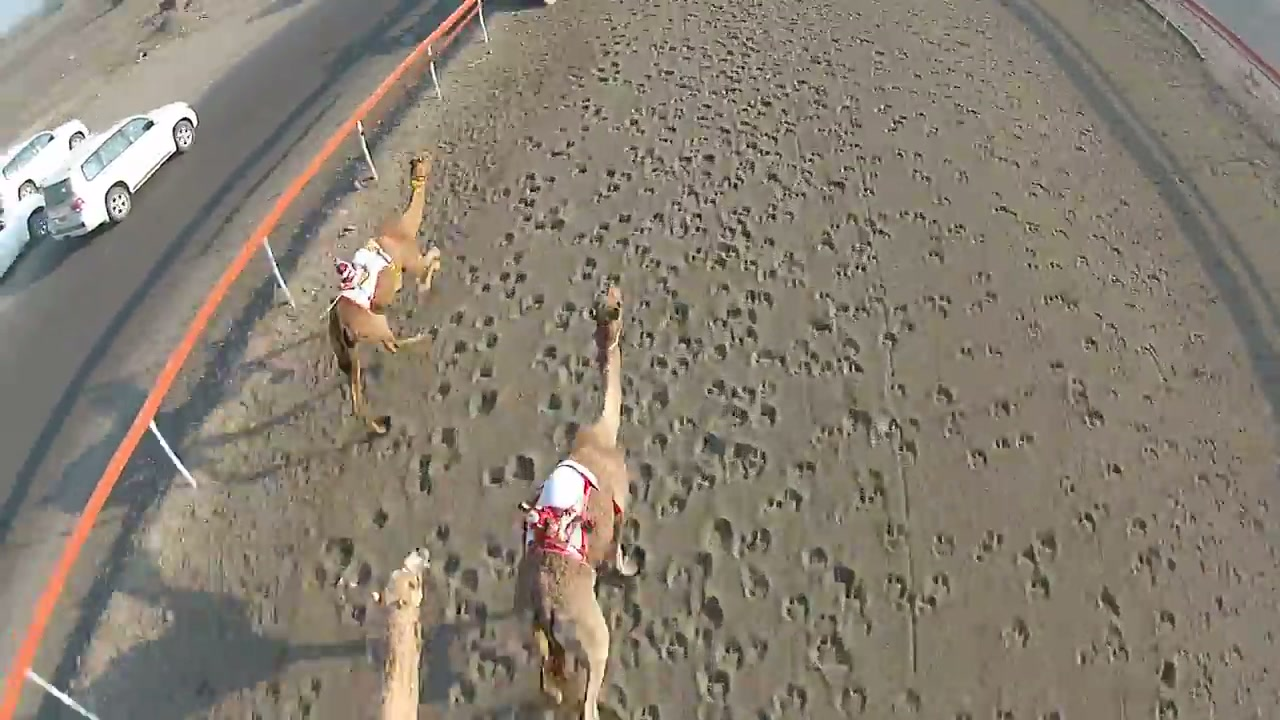animal_foot_print: (804, 27, 1222, 677), (284, 35, 577, 713), (440, 6, 686, 698), (653, 11, 840, 686)
